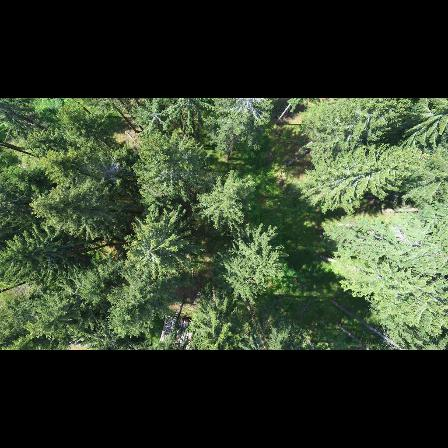Sick: (224, 98, 273, 131), (88, 151, 126, 188)
